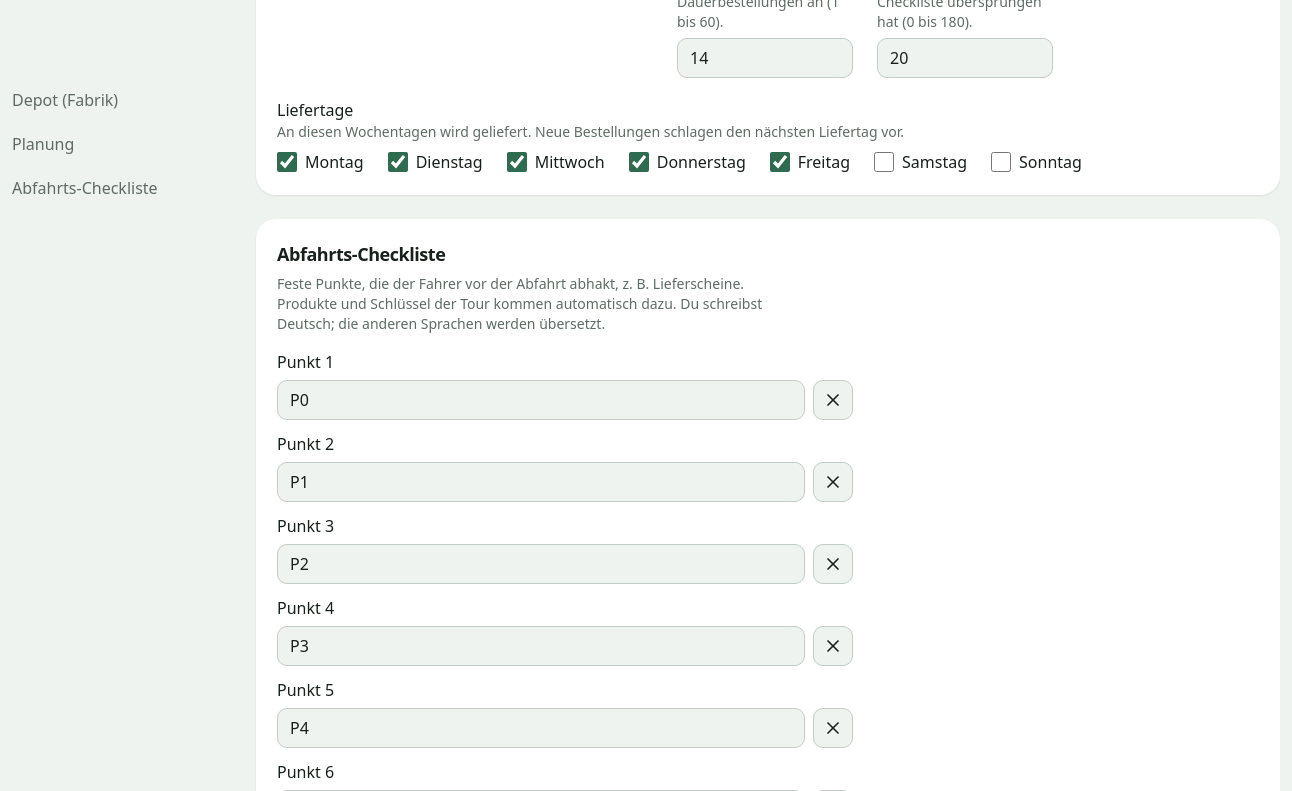
Test: SettingsForm › removes a fixed item and stops adding at the limit
(page scrolled)
Click the button with test id "checklist-remove" at (833, 400), box [813, 380, 853, 420]
(page scrolled)
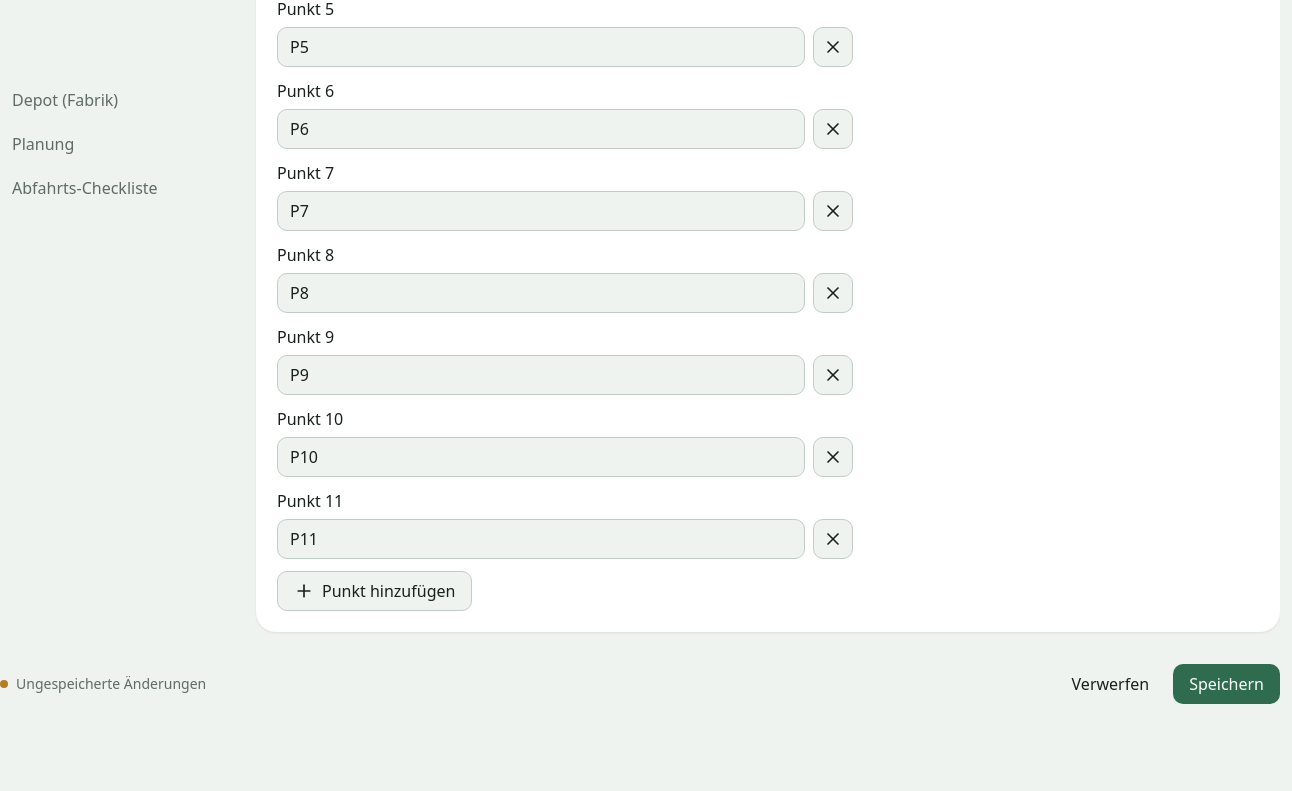
Result: the number of elements with test id "checklist-item" is 11
Result: the button with test id "checklist-add" is enabled at [277, 571, 472, 611]
